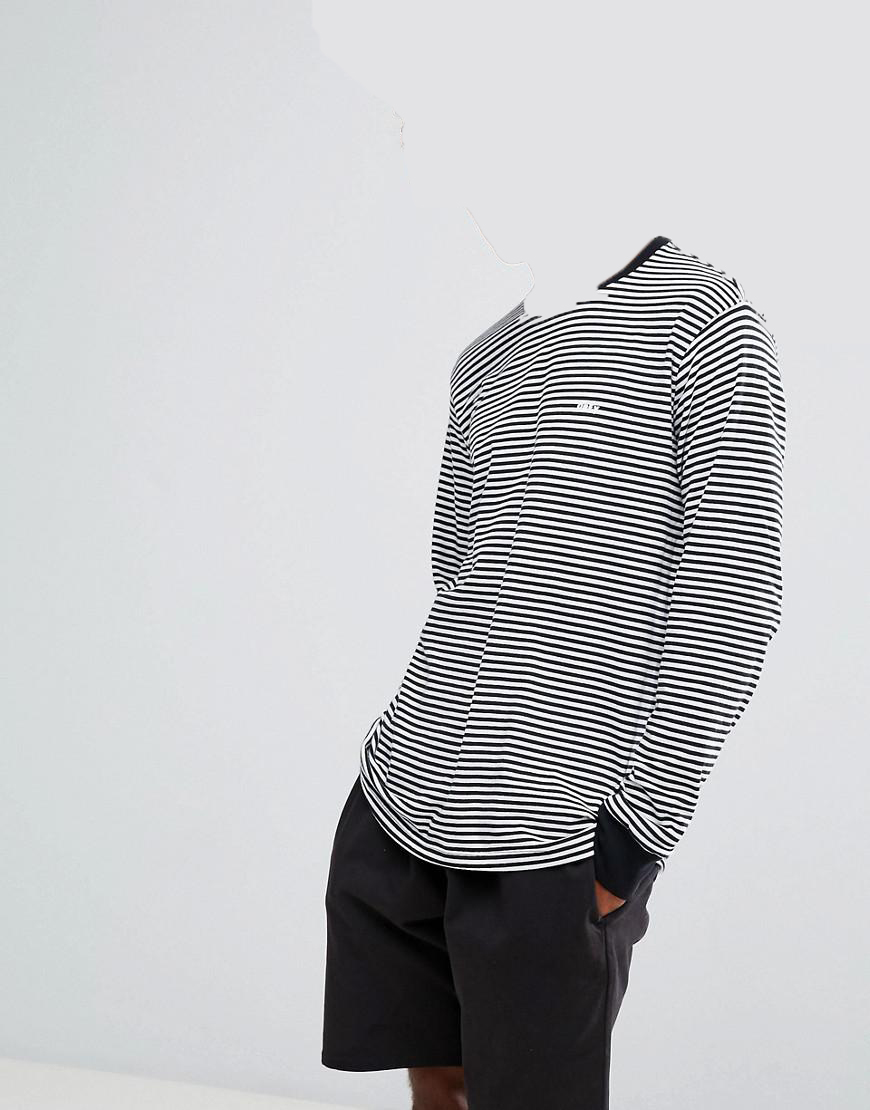teeshirt: (351, 235, 798, 900)
